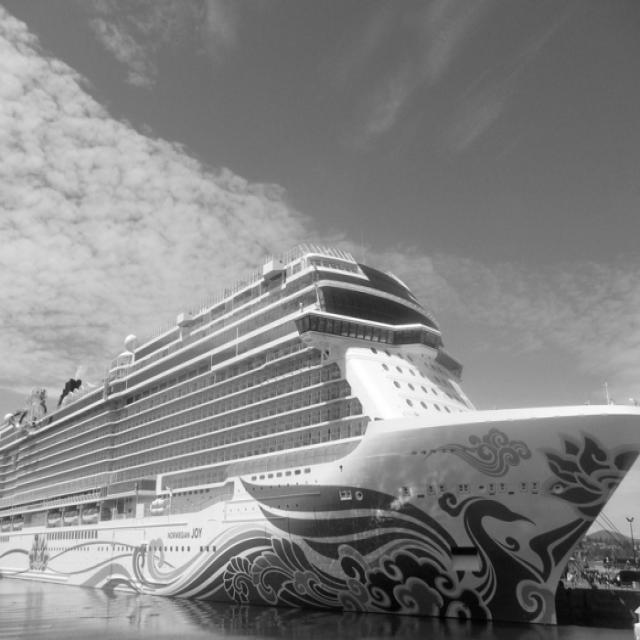cruises: (1, 240, 640, 636)
